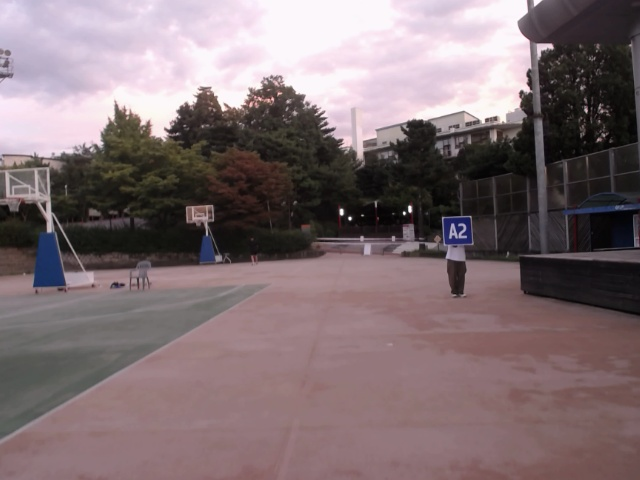delivery_a2: (443, 216, 473, 246)
